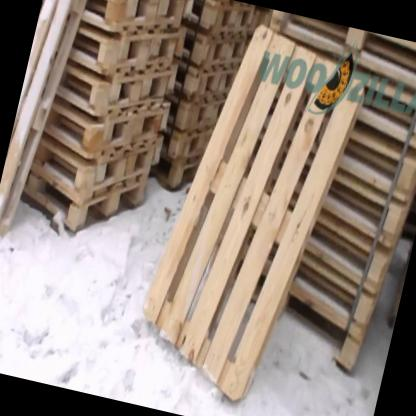BoxFace: (143, 26, 365, 401), (74, 25, 182, 69)
